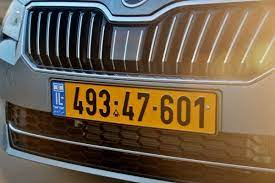licence: (48, 78, 220, 140)
